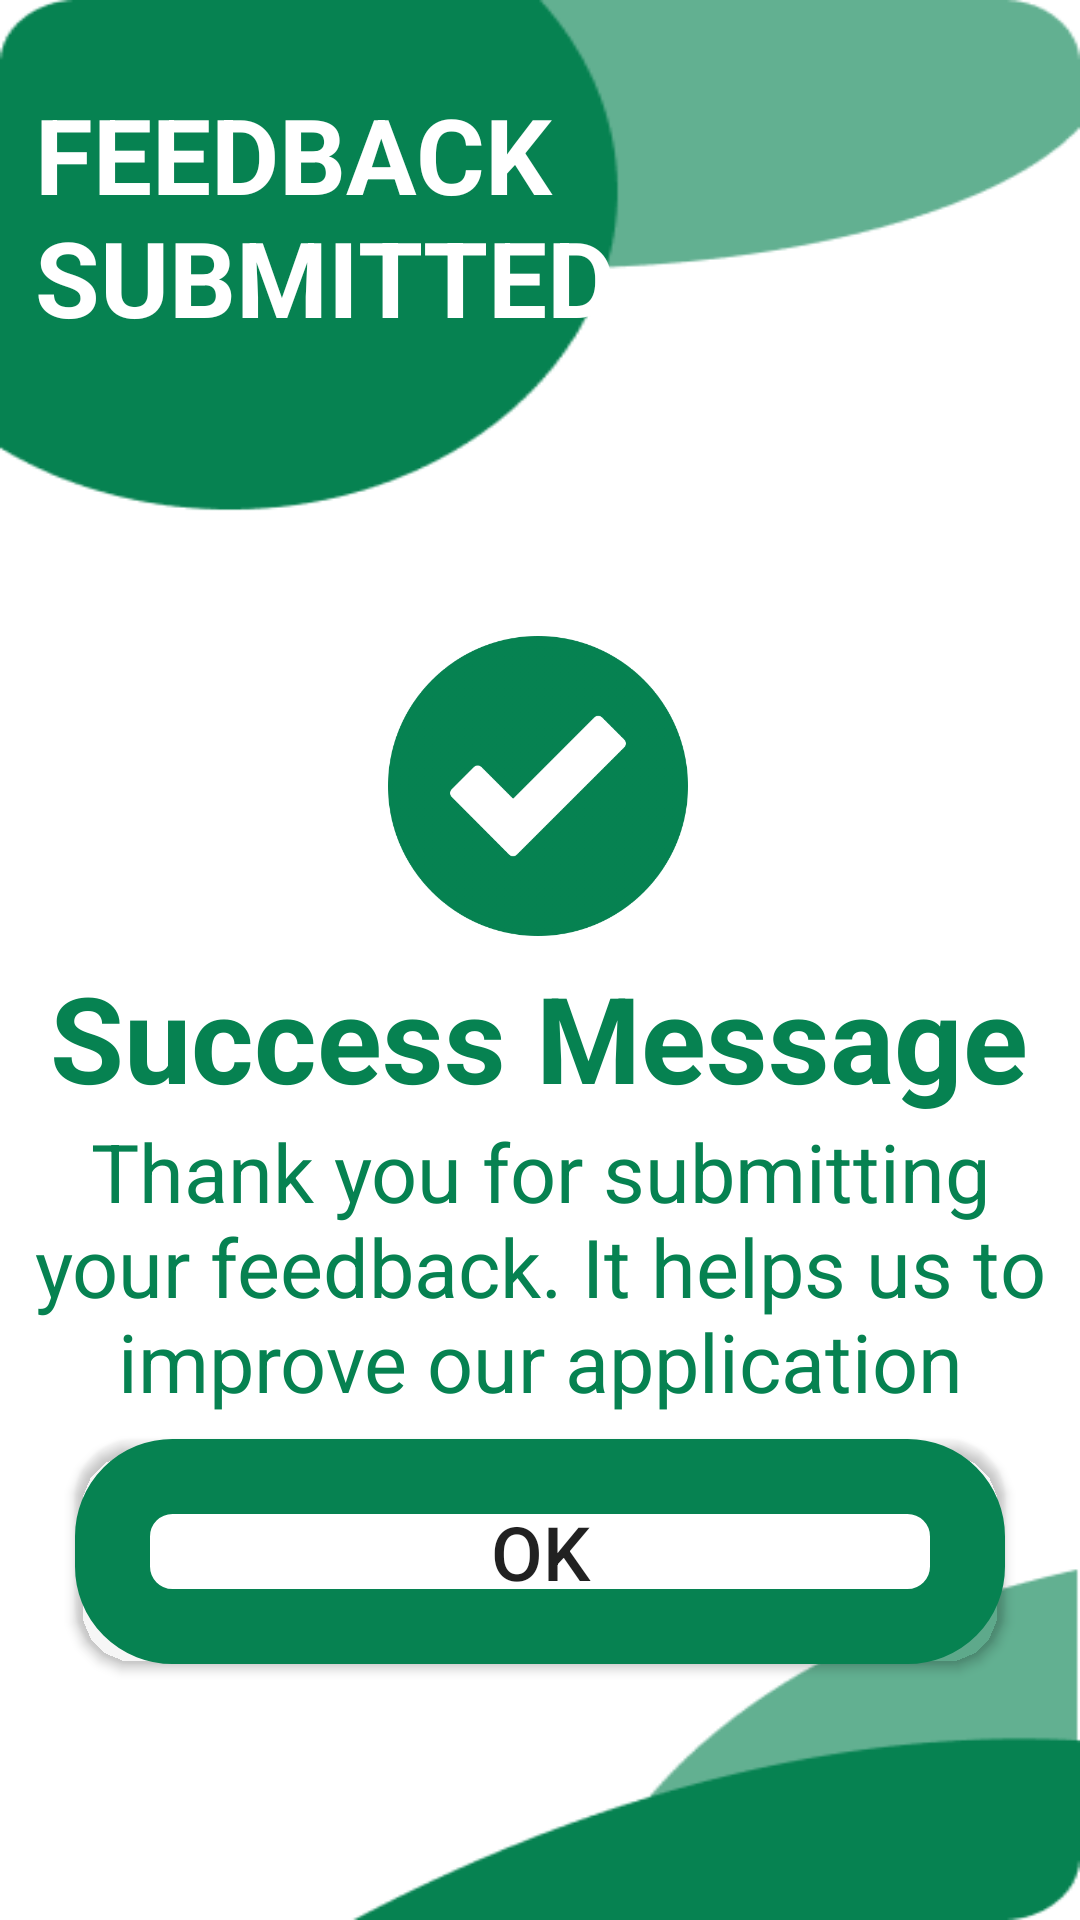

Locate icon controls on the screen. Image size 1080px×1920px, boxes as (x1, y1, x2, y2).
accept: (388, 636, 688, 936)
